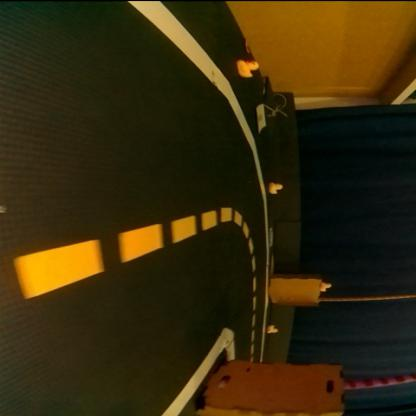Duckie: (238, 59, 260, 77), (270, 182, 284, 194), (269, 325, 279, 333), (323, 283, 331, 290)
QR code: (268, 227, 275, 247)
